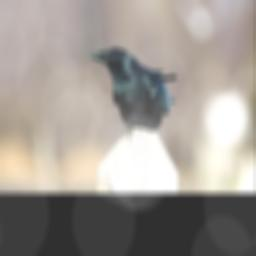Crow: (90, 48, 176, 138)
